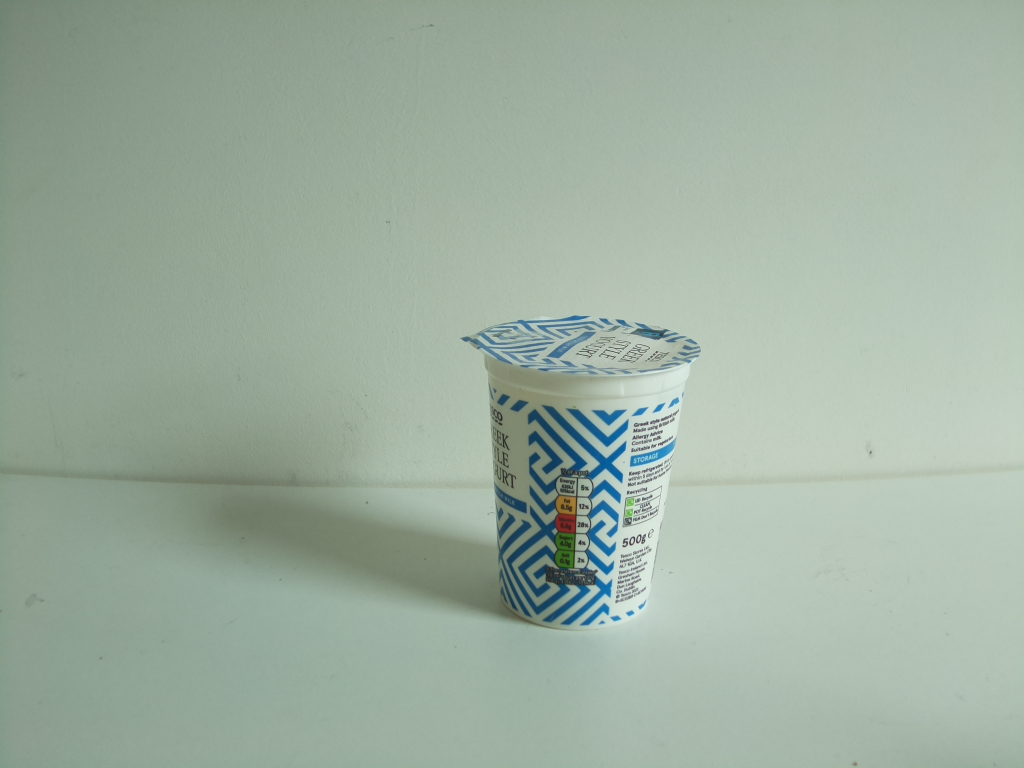yogurt: (456, 310, 703, 635)
